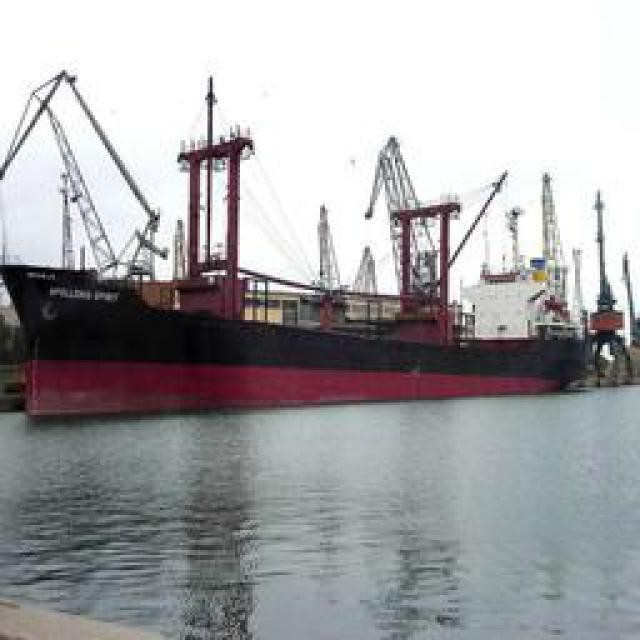Ship: (6, 74, 621, 434)
